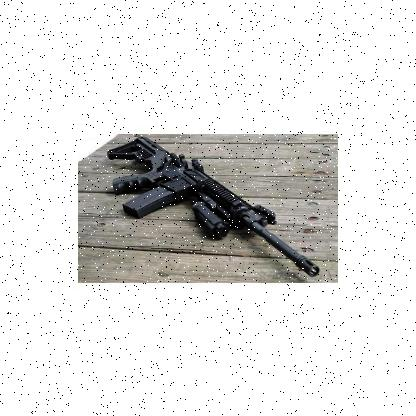gun: (108, 136, 319, 274)
